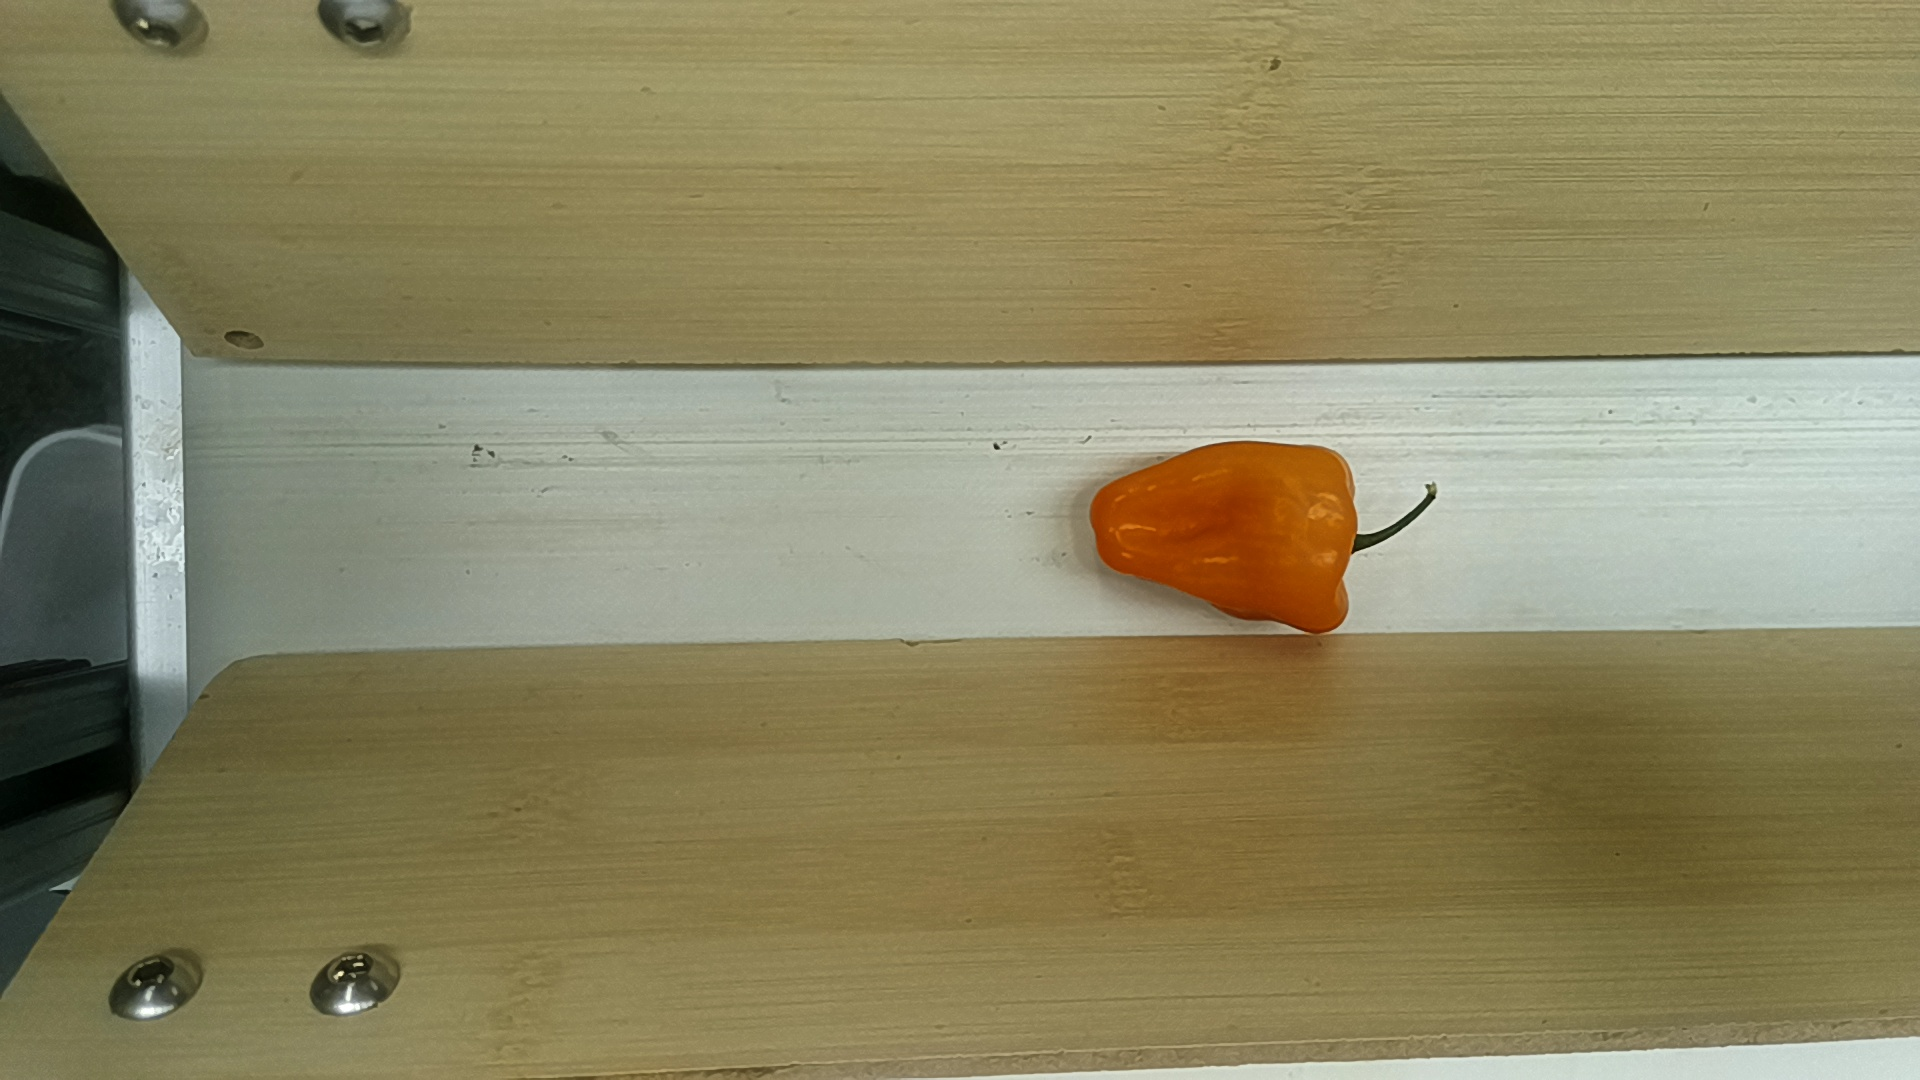Cut Point: (1313, 440, 1370, 636)
